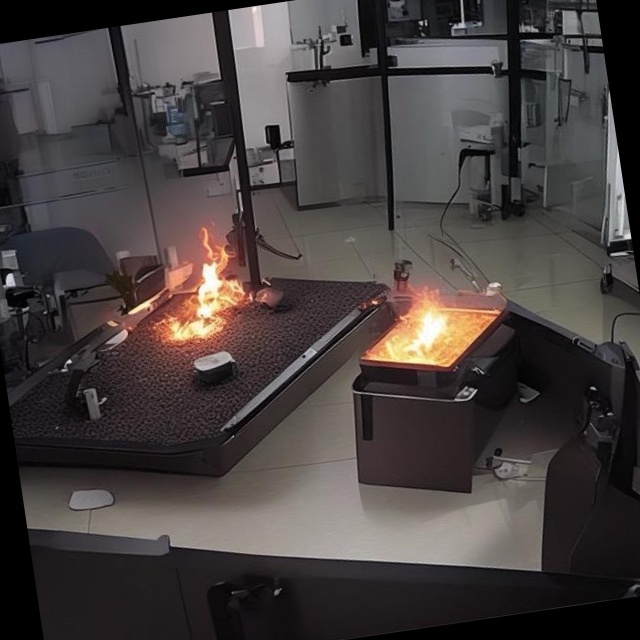fire: (362, 257, 503, 386), (151, 234, 275, 372)
